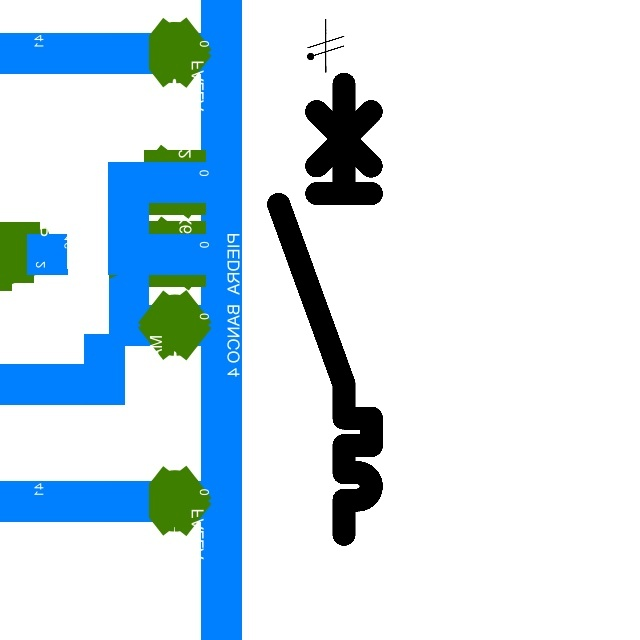interruptor_termomagnetico: (267, 72, 383, 545)
